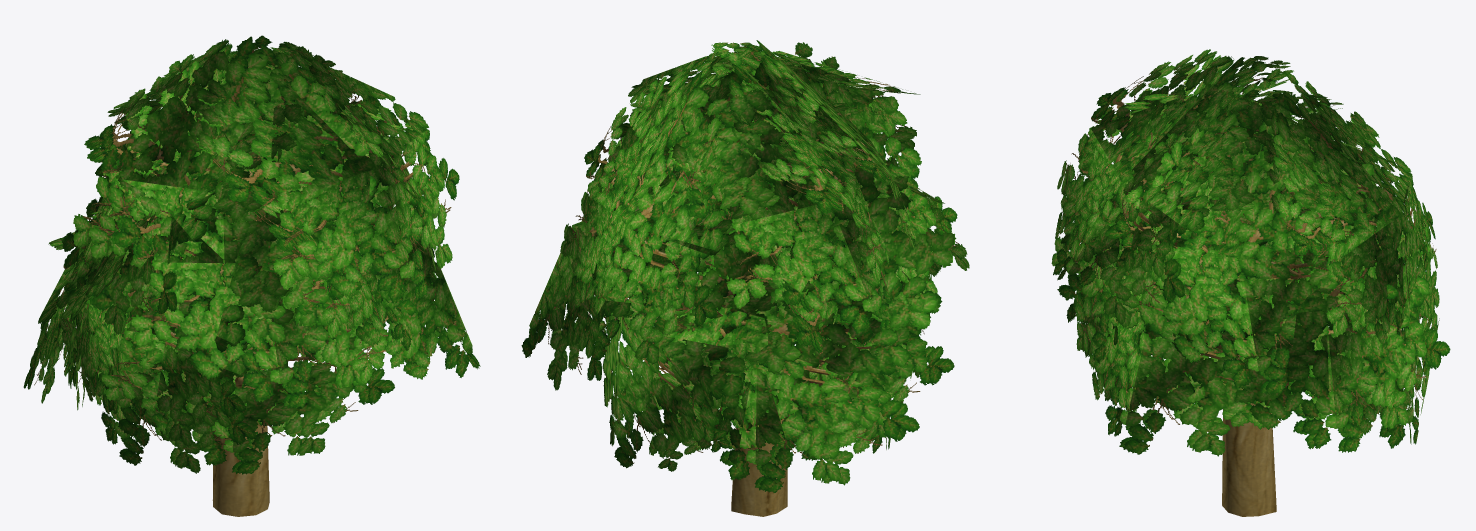
Rendered from Scrub01.fbx.
3 views of the same model, side by side, from view 1: azimuth 30°, elevation 25°; view 2: azimuth 150°, elevation 25°; view 3: azimuth 270°, elevation 25° (orthographic). The views are drawn at different scales.
Visible parts, largest first — view 1: Plane, Cylinder; view 2: Plane, Cylinder; view 3: Plane, Cylinder.
Boxes of the visible parts, bbox=[...] form: Plane: bbox=[23, 35, 480, 474]; Cylinder: bbox=[121, 327, 350, 516]; Plane: bbox=[521, 40, 969, 492]; Cylinder: bbox=[717, 231, 820, 516]; Plane: bbox=[1051, 49, 1450, 456]; Cylinder: bbox=[1144, 190, 1333, 516].
Bounding box in the file's own units: 110 × 126 × 108.
